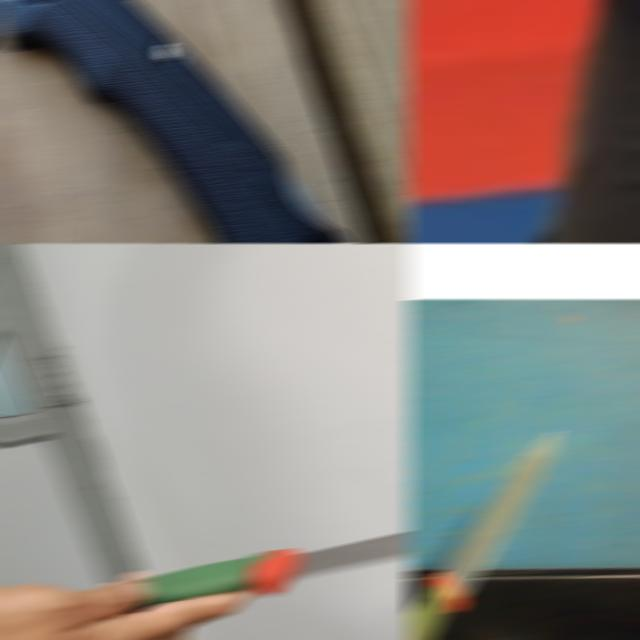Knife: (406, 432, 560, 640), (130, 531, 412, 611)
Knife_Handle: (0, 474, 412, 640)
